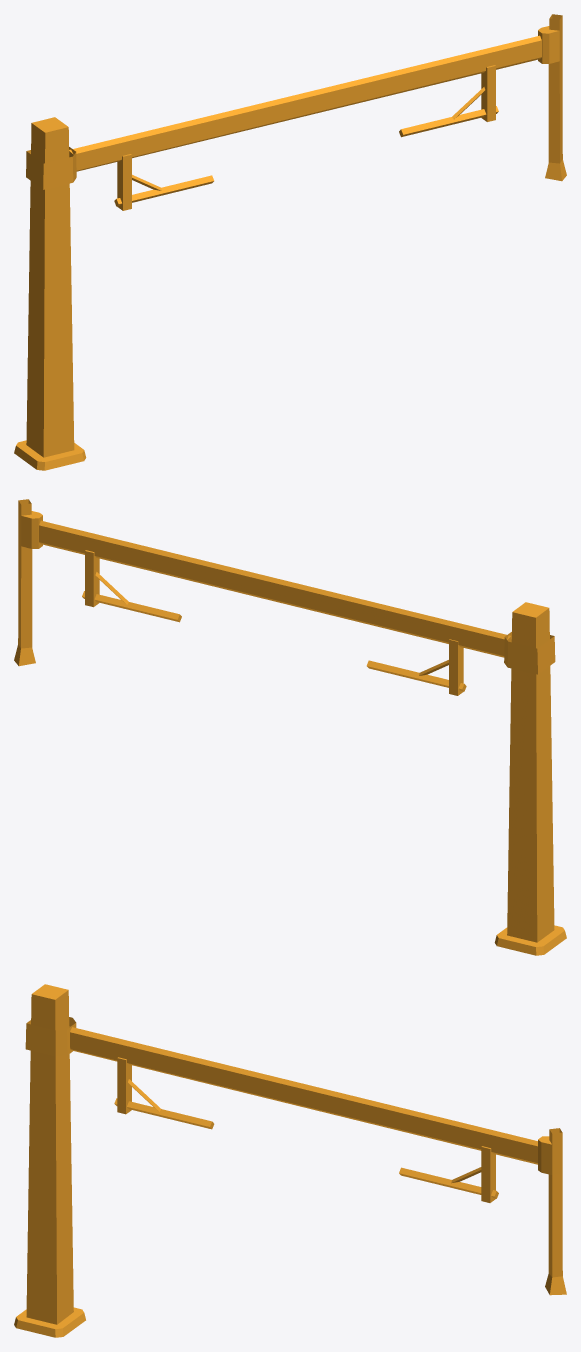
File: SM_Train_Wiring_Double_Roof_Semi_Collider.fbx
The picture shows the model from 3 angles, top to bottom: view 1: azimuth 30°, elevation 25°; view 2: azimuth 150°, elevation 25°; view 3: azimuth 330°, elevation 25°; orthographic projection.
Visible parts, largest first — view 1: SM_Train_Wiring_Double_Roof_Semi_Collider; view 2: SM_Train_Wiring_Double_Roof_Semi_Collider; view 3: SM_Train_Wiring_Double_Roof_Semi_Collider.
Part boxes in pixels (<box>): SM_Train_Wiring_Double_Roof_Semi_Collider: <box>14,14,566,470</box>; SM_Train_Wiring_Double_Roof_Semi_Collider: <box>14,499,566,955</box>; SM_Train_Wiring_Double_Roof_Semi_Collider: <box>14,984,566,1337</box>.
Size of the model in its own units: 14.71 by 8.58 by 1.34.
